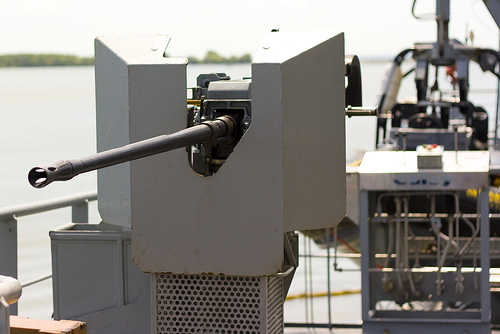rifle: (9, 84, 261, 204)
